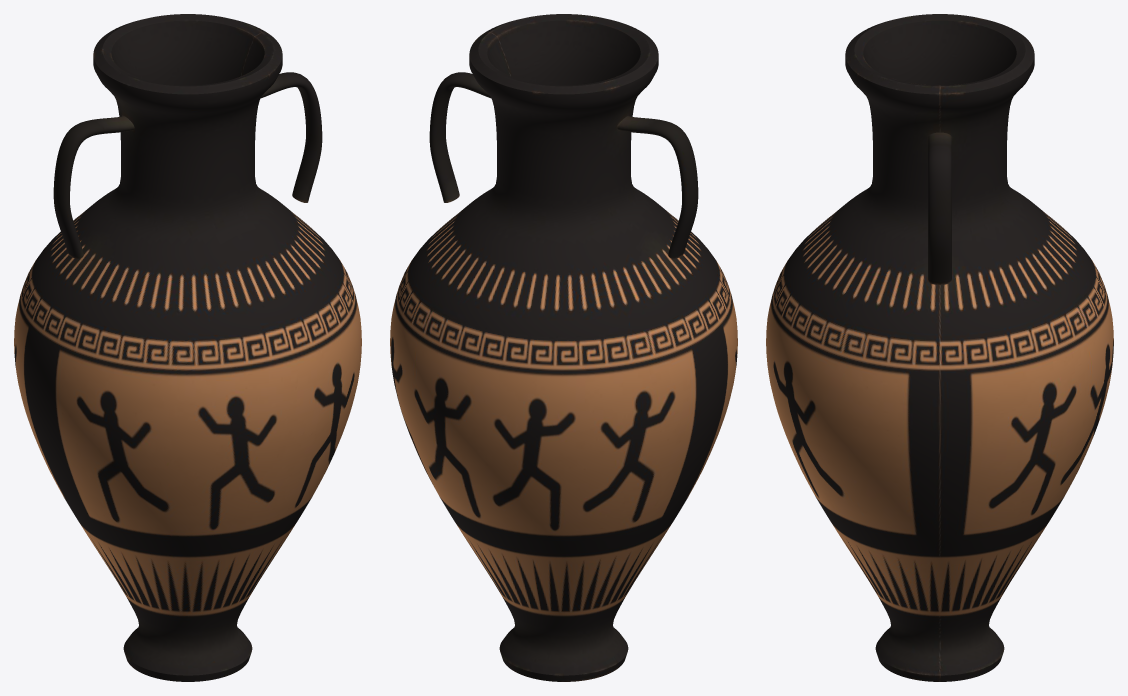
File: amphora.glb
The picture shows the model from 3 angles, left to right: view 1: azimuth 30°, elevation 25°; view 2: azimuth 150°, elevation 25°; view 3: azimuth 270°, elevation 25°; orthographic projection.
Parts seen in each view (by area): view 1: amphora; view 2: amphora; view 3: amphora.
Part boxes in pixels (x1,y1,x2,y2): amphora: [14, 14, 361, 681]; amphora: [390, 14, 737, 681]; amphora: [766, 14, 1113, 681].
Bounding box in the file's own units: 0.3222 × 0.6207 × 0.3222.
Materials: 1 (1 with a texture image).
